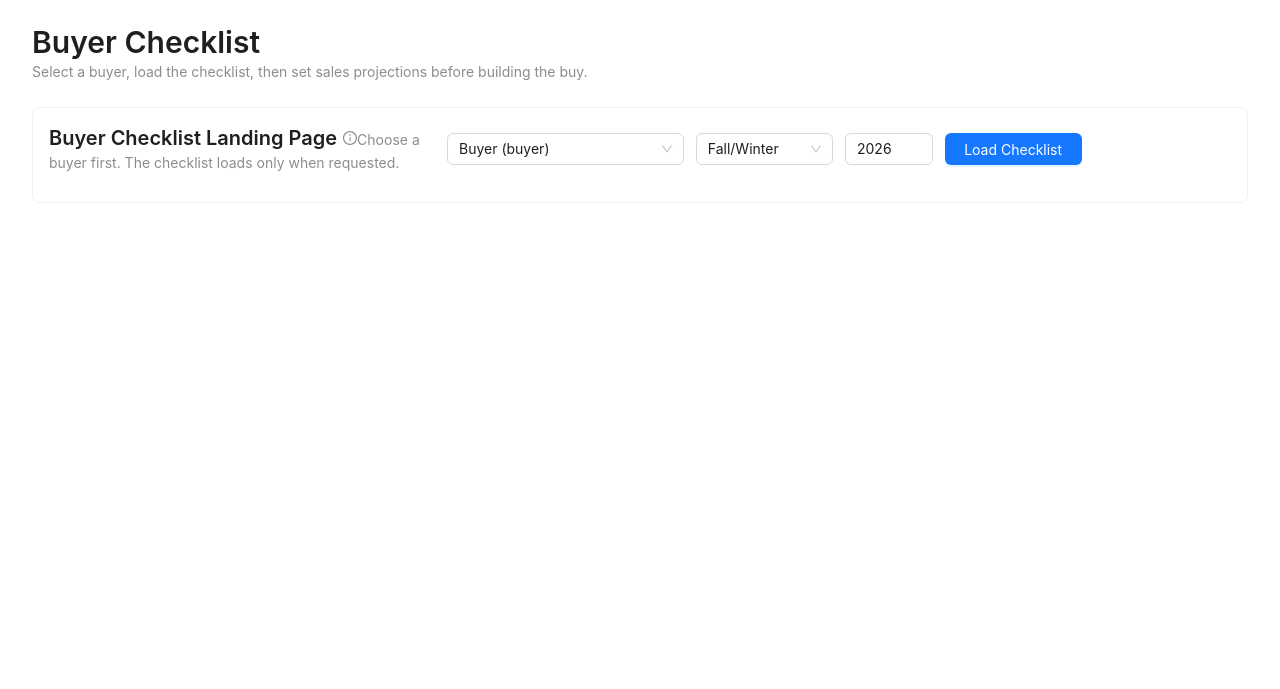
Test: BuyerPurchasePlanningPage › loads history from the store/category starting point
This screenshot has width=1280, height=689.
Expected: the text "Buyer (buyer)" is shown, x1=459 y1=140 x2=550 y2=157
Click the button "Load Checklist". click: (1013, 149)
box: x1=944 y1=133 x2=1082 y2=165
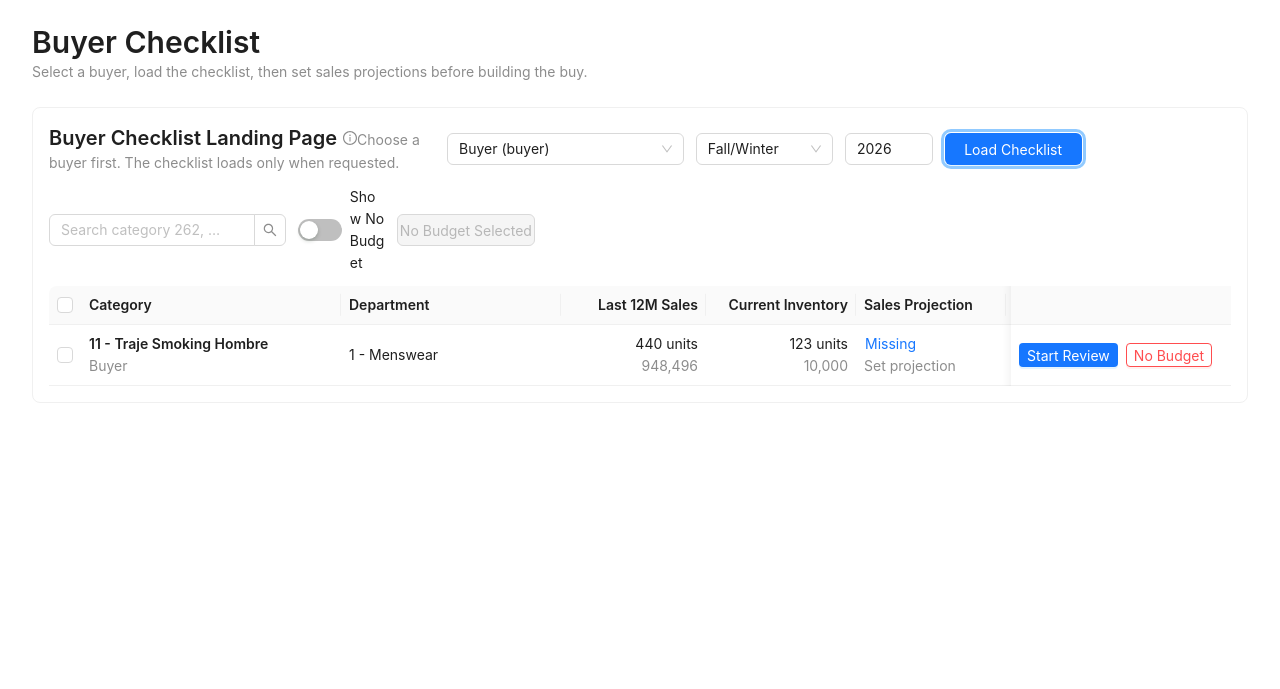
Click the button "Start Review". click: (1068, 355)
box: x1=1019 y1=343 x2=1118 y2=367
(page scrolled)
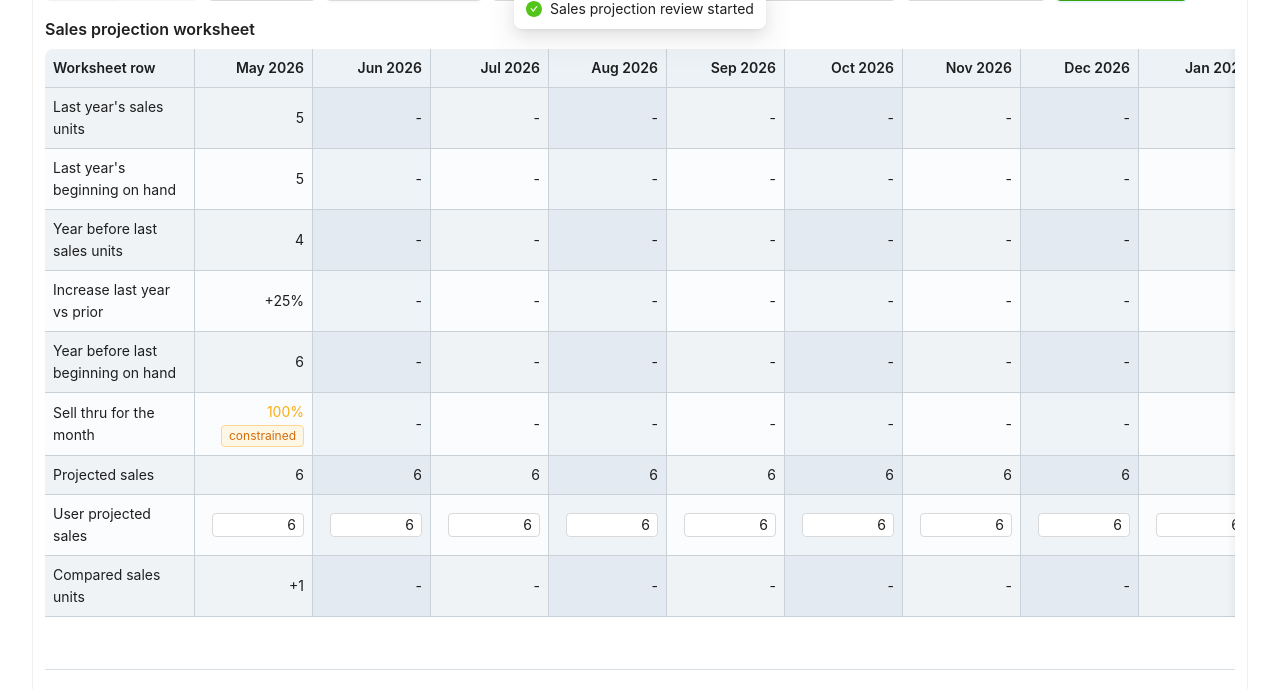
Expected: the table named "Sales projection worksheet" is shown
